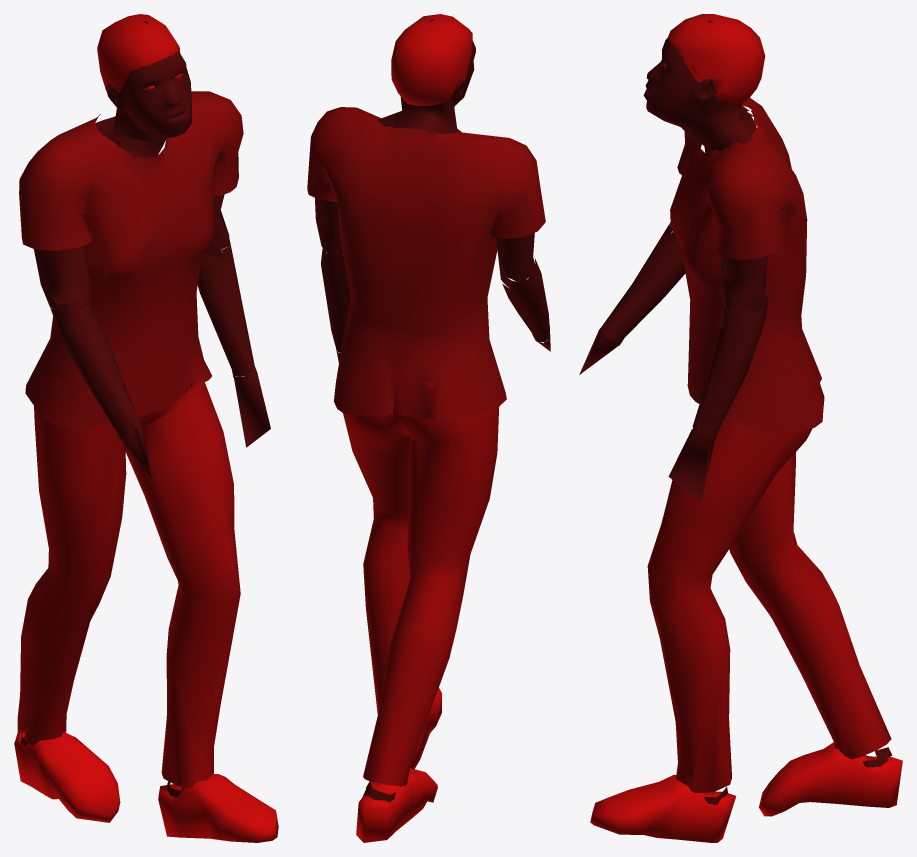
The model's file is crowd_manStand.glb.
The picture shows the model from 3 angles, left to right: view 1: azimuth 30°, elevation 25°; view 2: azimuth 150°, elevation 25°; view 3: azimuth 270°, elevation 25°; orthographic projection. The views are drawn at different scales.
Parts seen in each view (by area): view 1: manStand; view 2: manStand; view 3: manStand.
Part boxes in pixels (box(x1,y1,x2,y2)): manStand: box(14, 14, 278, 842); manStand: box(307, 14, 550, 842); manStand: box(579, 14, 902, 842).
Bounding box in the file's own units: 0.5281 × 1.83 × 0.6666.
